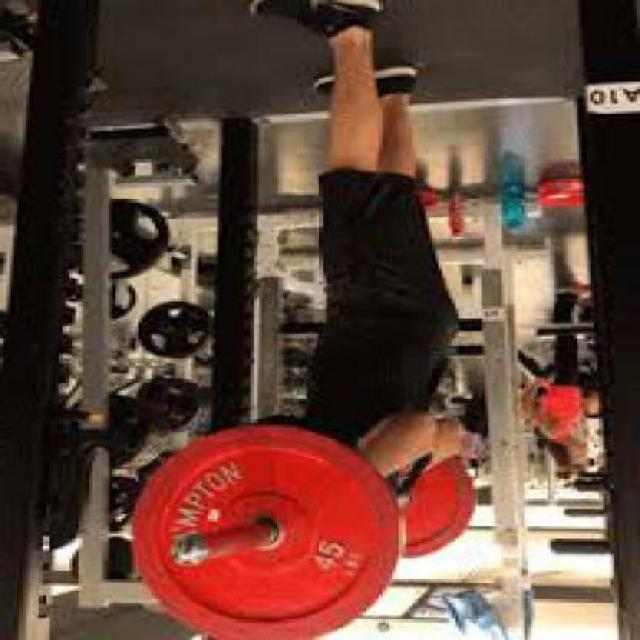Barbell: (169, 532, 209, 572)
